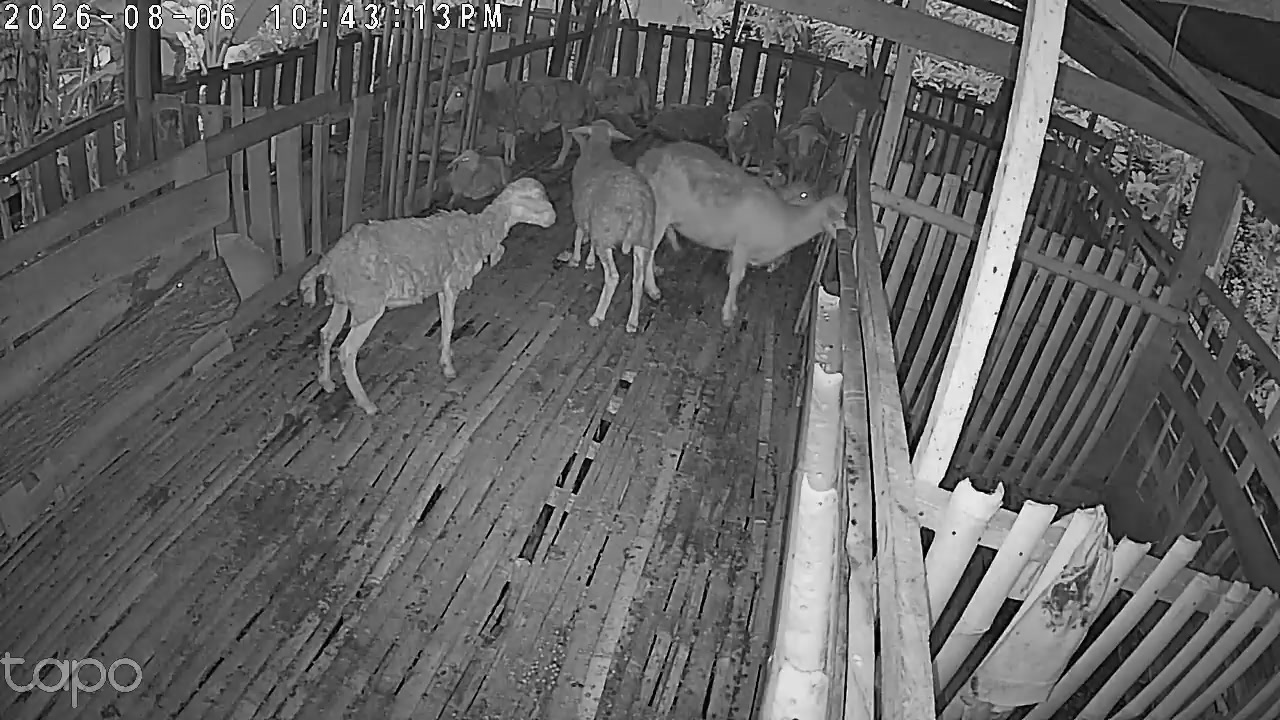sheep: (300, 185, 560, 415), (640, 144, 845, 329), (569, 120, 664, 335), (720, 99, 780, 169), (449, 148, 514, 198)
